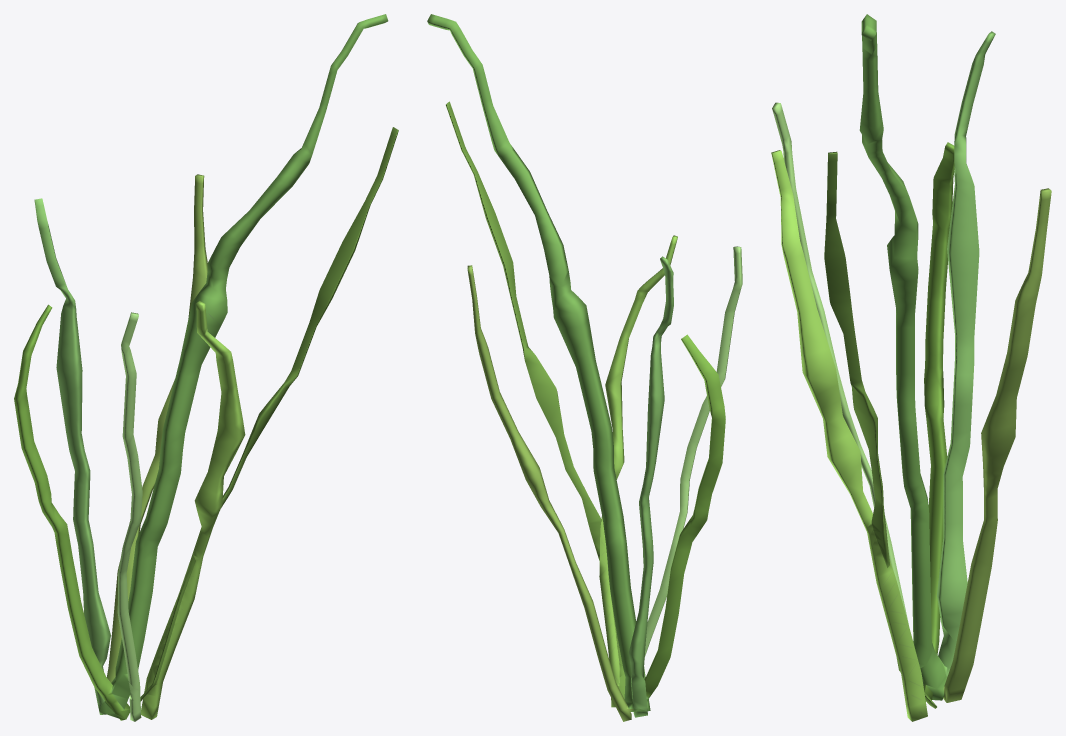
Rendered from desert-plant-3.fbx.
3 renders of one model, left to right at view 1: azimuth 30°, elevation 25°; view 2: azimuth 150°, elevation 25°; view 3: azimuth 270°, elevation 25°, orthographic. The views are drawn at different scales.
Visible parts, largest first — view 1: unamed; view 2: unamed; view 3: unamed.
Part boxes in pixels (box(x1,y1,x2,y2)): unamed: box(14, 14, 398, 721); unamed: box(427, 14, 742, 721); unamed: box(771, 14, 1051, 721).
Size of the model in its own units: 0.521 by 0.9669 by 0.2994.
Materials: 1 (1 with a texture image).
